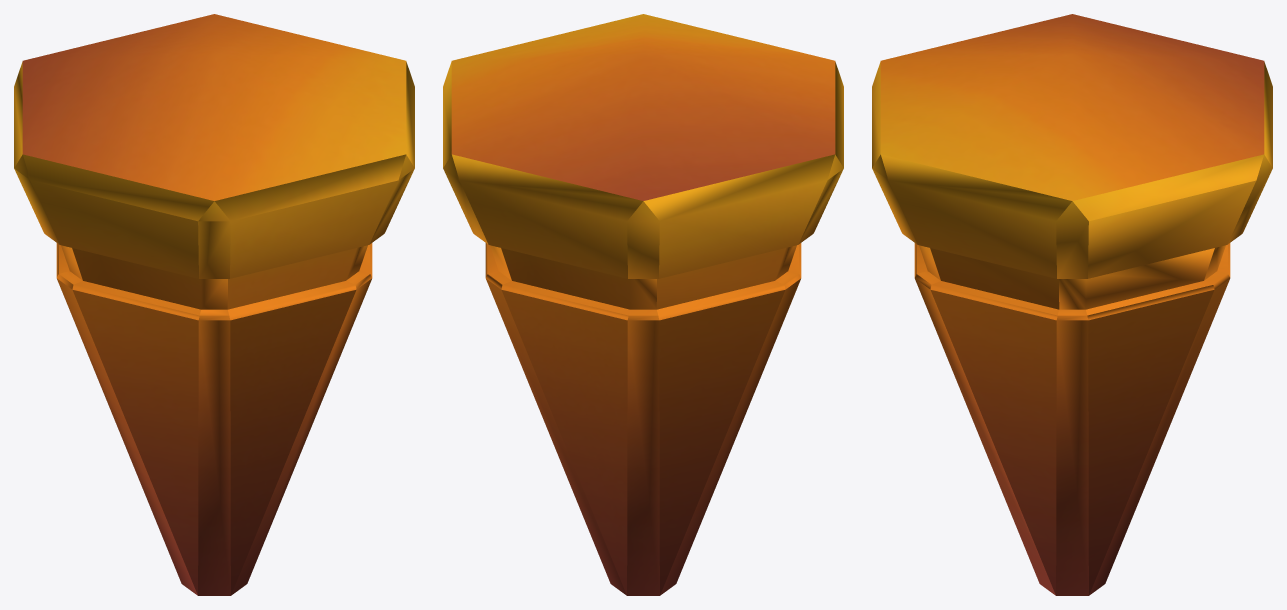
File: jiantou.FBX
3 views of the same model, side by side, from view 1: azimuth 30°, elevation 25°; view 2: azimuth 150°, elevation 25°; view 3: azimuth 270°, elevation 25° (orthographic).
Parts seen in each view (by area): view 1: jiantou; view 2: jiantou; view 3: jiantou.
Part boxes in pixels (bbox=[...]): jiantou: bbox=[14, 14, 414, 595]; jiantou: bbox=[443, 14, 843, 595]; jiantou: bbox=[872, 14, 1272, 595].
Bounding box in the file's own units: 0.7427 × 0.9773 × 0.6706.
